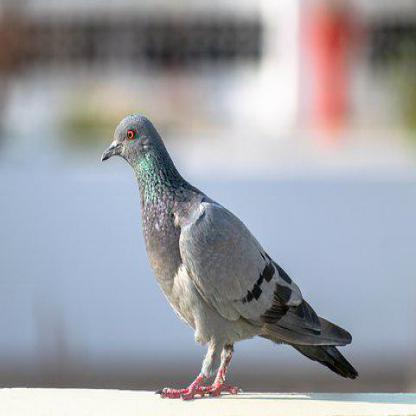Flying Rat: (97, 115, 374, 398)
